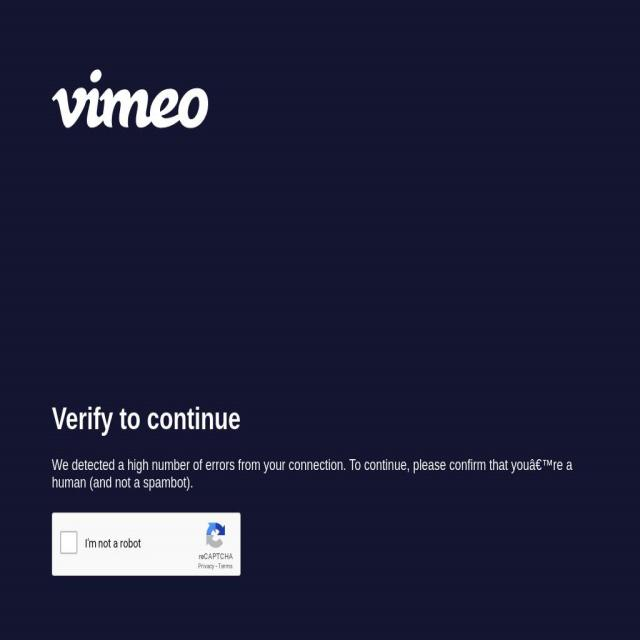button: (47, 64, 218, 154)
field: (60, 530, 78, 554)
